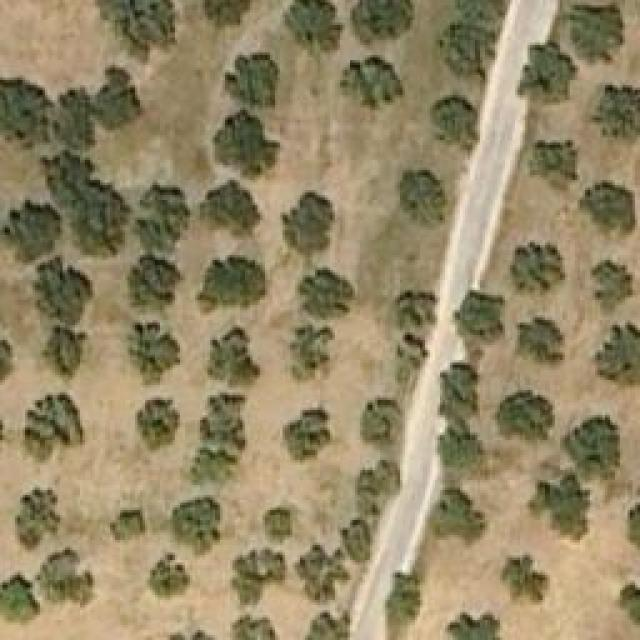Tree: (185, 393, 245, 486), (440, 365, 485, 468), (212, 112, 280, 180), (97, 0, 185, 50), (132, 183, 190, 258), (23, 392, 86, 460), (528, 475, 593, 540), (33, 255, 93, 325), (197, 253, 265, 313), (70, 182, 128, 250), (518, 40, 578, 103), (195, 180, 260, 238), (5, 200, 63, 265), (440, 15, 498, 78), (35, 545, 93, 608), (340, 55, 405, 110), (280, 190, 335, 255), (205, 328, 263, 388), (0, 80, 50, 148), (128, 323, 181, 386), (233, 548, 288, 608), (125, 258, 185, 313), (570, 3, 625, 63), (580, 180, 638, 235), (430, 487, 485, 545), (562, 418, 620, 471), (15, 485, 60, 553), (170, 495, 220, 555), (93, 65, 143, 125), (285, 0, 342, 52), (510, 243, 565, 296), (225, 55, 280, 108), (497, 390, 555, 440), (430, 95, 478, 155), (350, 0, 413, 45), (398, 170, 448, 225), (515, 318, 565, 373), (0, 557, 40, 625), (595, 325, 640, 385), (590, 85, 640, 138), (285, 400, 330, 458), (300, 270, 353, 318), (43, 327, 86, 385), (530, 140, 578, 190), (455, 290, 505, 338), (53, 90, 96, 145), (302, 542, 340, 600), (138, 398, 178, 453), (502, 558, 550, 603), (45, 152, 90, 200), (590, 260, 633, 310), (393, 285, 438, 328), (288, 610, 351, 640), (148, 553, 191, 596), (290, 327, 328, 375), (385, 573, 420, 623), (360, 462, 395, 510), (365, 400, 398, 448), (448, 612, 503, 640), (340, 517, 370, 565), (203, 0, 253, 28), (233, 615, 283, 640), (617, 580, 640, 630), (263, 508, 293, 543), (110, 510, 145, 540)
